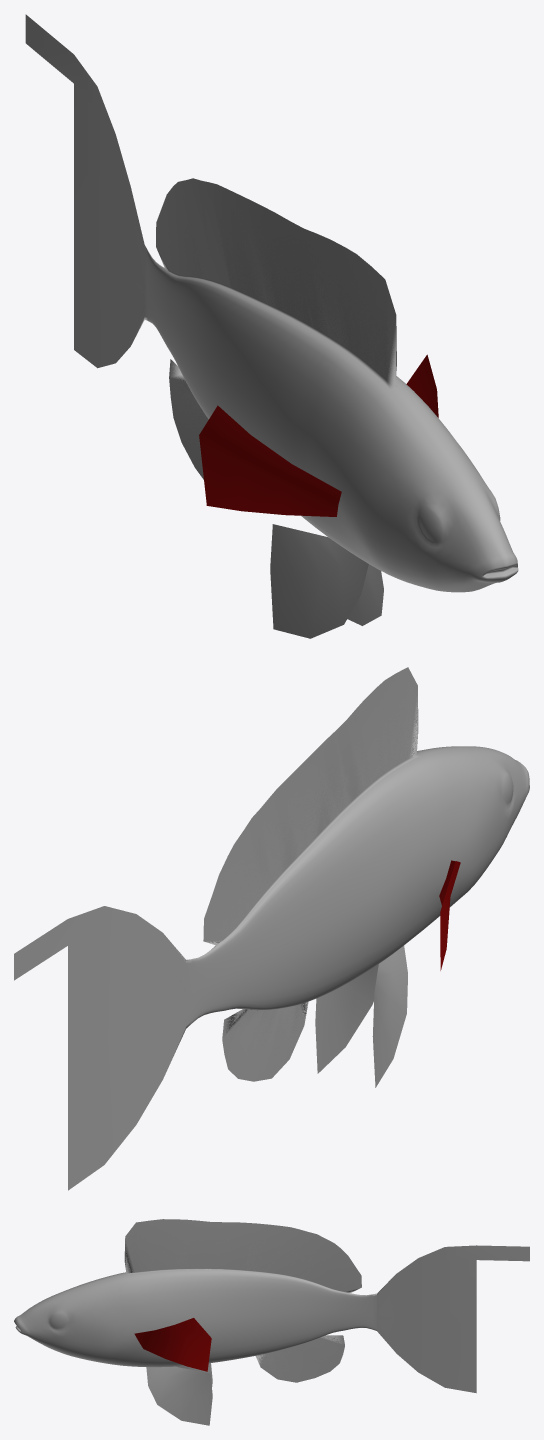
The model's file is Nemipteridae_A.fbx.
3 renders of one model, top to bottom at view 1: azimuth 30°, elevation 25°; view 2: azimuth 150°, elevation 25°; view 3: azimuth 270°, elevation 25°, orthographic. The views are drawn at different scales.
Visible parts, largest first — view 1: Nemipteridae_A_LOD0; view 2: Nemipteridae_A_LOD0; view 3: Nemipteridae_A_LOD0.
Part boxes in pixels (x1,y1,x2,y2): Nemipteridae_A_LOD0: (25, 14, 518, 638); Nemipteridae_A_LOD0: (14, 667, 529, 1190); Nemipteridae_A_LOD0: (14, 1219, 529, 1425).
Size of what is drawn, in the model's own units: 0.237 by 0.4311 by 1.01.
